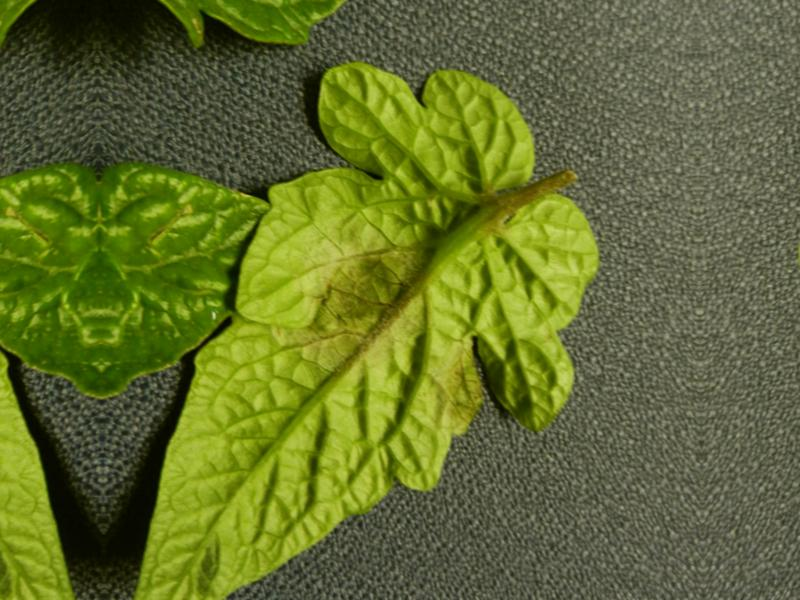Tomato leaf late blight: (119, 56, 622, 600)
